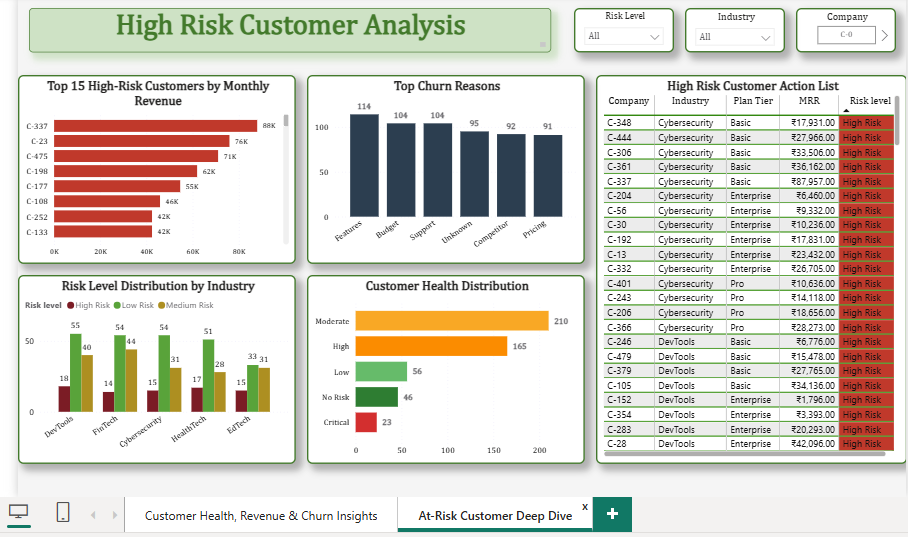

Layout of this report page (visuals, bound fields, positions):
{"tool":"powerbi","page":{"name":"At-Risk Customer Deep Dive","canvas":[1280,720],"ordinal":1},"visuals":[{"type":"barChart","title":"Top 15 High-Risk Customers by Monthly Revenue","fields":{"Y":["Measure.sum_mrr"],"Category":["Customer_Health_Score.Company Name"]},"box":[0,112,400,272],"z":0},{"type":"textbox","title":"High Risk Customer Analysis","box":[16,16,752,64],"z":1000},{"type":"clusteredColumnChart","title":"Risk Level Distribution by Industry ","fields":{"Category":["Customer_Health_Score.industry"],"Series":["Customer_Health_Score.risk level"],"Y":["CountNonNull(Customer_Health_Score.risk level)"]},"box":[0,400,400,272],"z":3000},{"type":"tableEx","title":"High Risk Customer Action List","fields":{"Values":["Customer_Health_Score.Company Display","Customer_Health_Score.industry","Customer_Health_Score.plan_tier","Customer_Health_Score.monthly revenue","Customer_Health_Score.risk level"]},"box":[832,112,448,560],"z":4000},{"type":"clusteredColumnChart","title":"Top Churn Reasons","fields":{"Y":["CountNonNull(ravenstack_churn_events.churn_event_id)"],"Category":["ravenstack_churn_events.Reason Label"]},"box":[416,112,400,272],"z":5000},{"type":"slicer","title":"Risk Level","fields":{"Values":["Customer_Health_Score.risk level"]},"box":[800,16,144,64],"z":6000},{"type":"clusteredBarChart","title":"Customer Health Distribution","fields":{"Y":["CountNonNull(Customer_Health_Score.account_id)"],"Category":["Customer_Health_Score.Health Band"]},"box":[416,400,400,272],"z":7000},{"type":"slicer","title":"Company","fields":{"Values":["Customer_Health_Score.Company Display"]},"box":[1120,16,144,64],"z":8000},{"type":"slicer","title":"Industry","fields":{"Values":["Customer_Health_Score.industry"]},"box":[960,16,144,64],"z":9000}]}

Visuals, with their boxes on the page's 1280x720 design canvas (x1, y1, x2, y2). These are canvas units, not pixel positions in the 908x537 screenshot, which may show the page scaled, cropped or inside an application window:
"Top 15 High-Risk Customers by Monthly Revenue" barChart: bbox=(0, 112, 400, 384)
"High Risk Customer Analysis" textbox: bbox=(16, 16, 768, 80)
"Risk Level Distribution by Industry " clusteredColumnChart: bbox=(0, 400, 400, 672)
"High Risk Customer Action List" tableEx: bbox=(832, 112, 1280, 672)
"Top Churn Reasons" clusteredColumnChart: bbox=(416, 112, 816, 384)
"Risk Level" slicer: bbox=(800, 16, 944, 80)
"Customer Health Distribution" clusteredBarChart: bbox=(416, 400, 816, 672)
"Company" slicer: bbox=(1120, 16, 1264, 80)
"Industry" slicer: bbox=(960, 16, 1104, 80)
